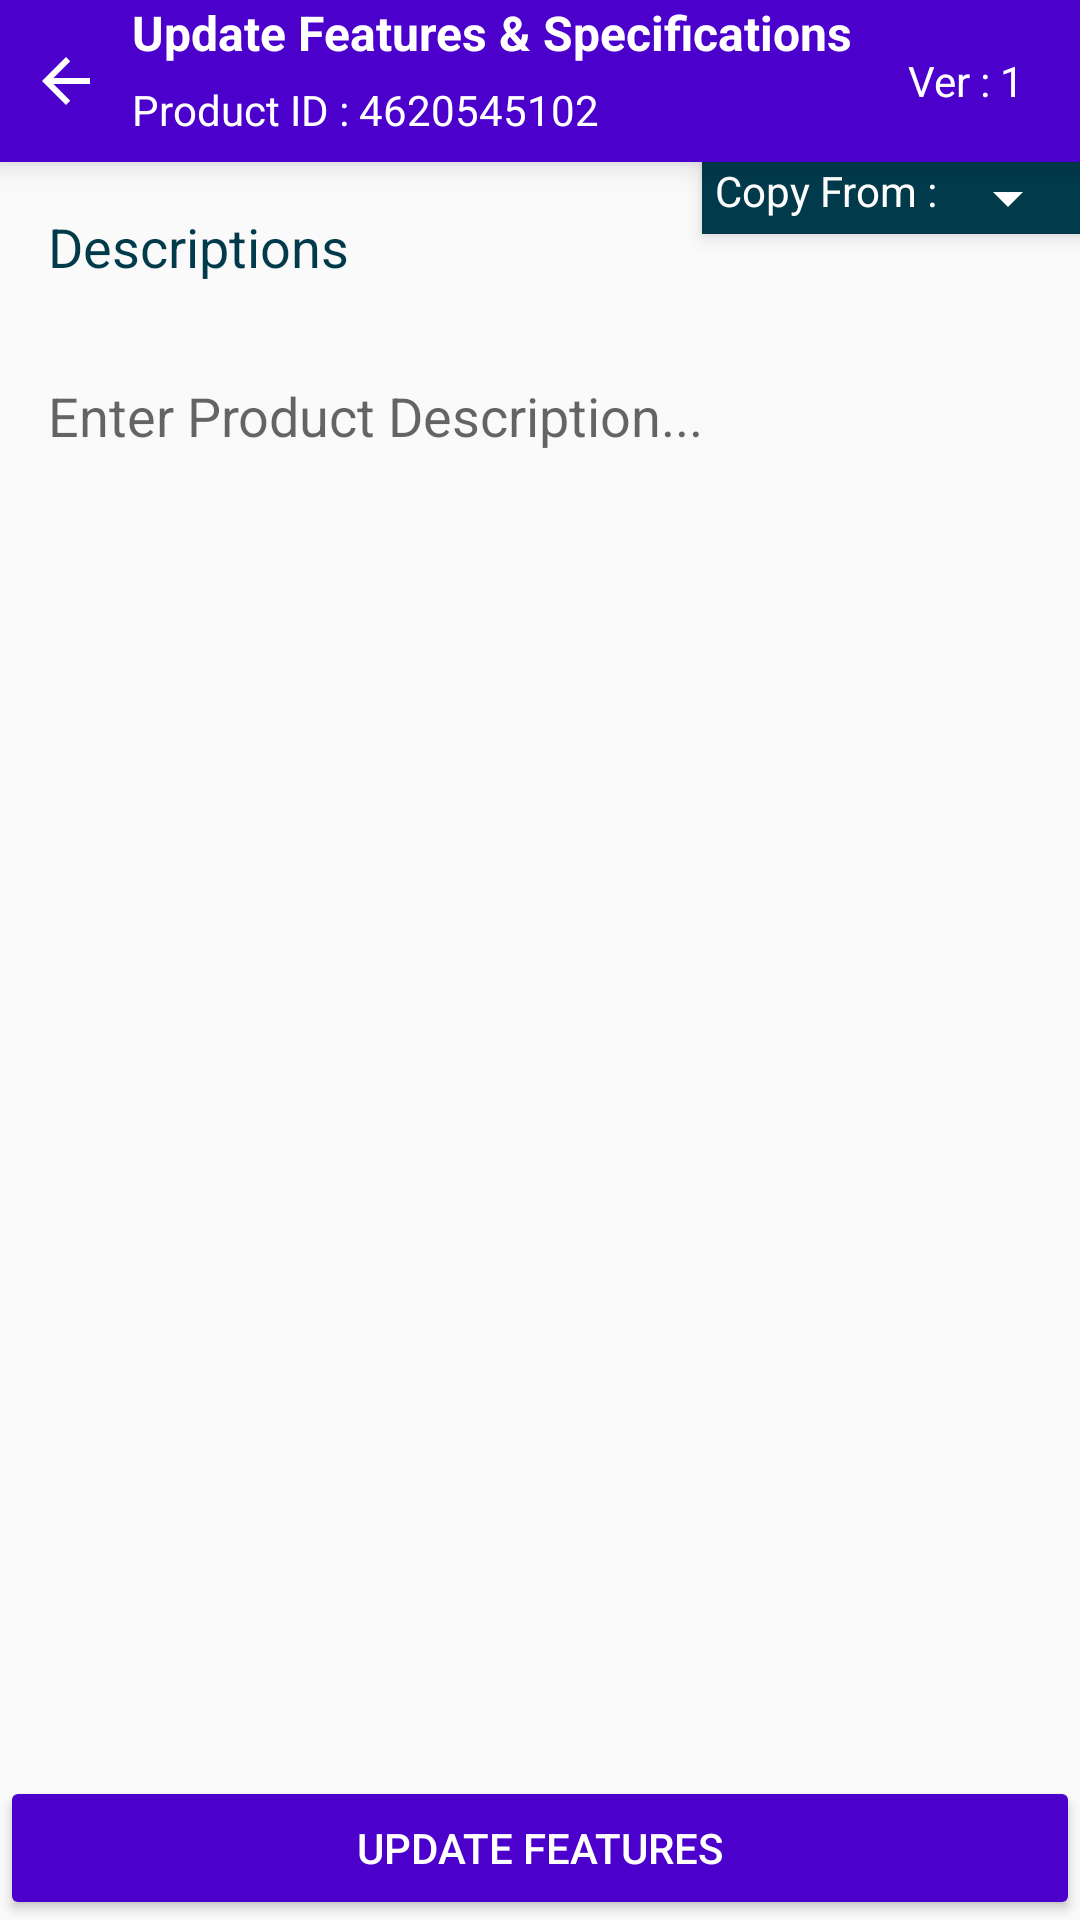

Screen size 1080px x 1920px. Icon name, then its center in pixels as (x=x, y=y):
arrow back: (x=66, y=81)
